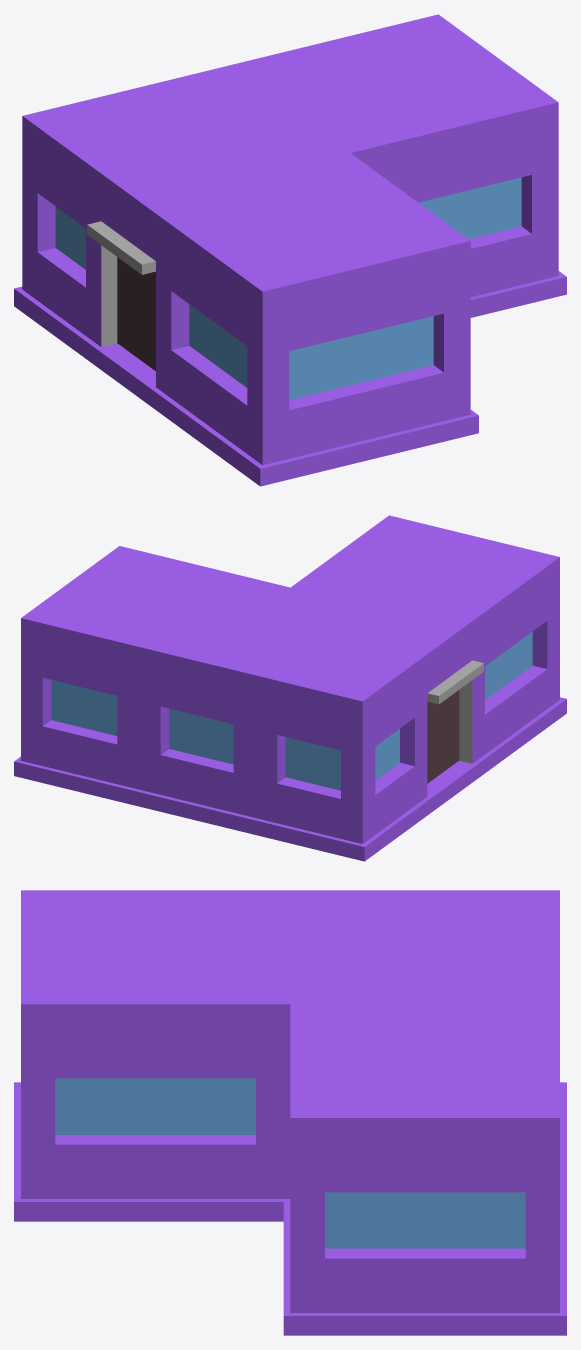
File: building_L_3_g.glb
3 views of the same model, one above another, from view 1: azimuth 30°, elevation 25°; view 2: azimuth 150°, elevation 25°; view 3: azimuth 270°, elevation 25° (orthographic). The views are drawn at different scales.
Parts seen in each view (by area): view 1: Cube; view 2: Cube; view 3: Cube.
Part boxes in pixels (x1,y1,x2,y2): Cube: (14,14,566,486); Cube: (14,515,566,861); Cube: (14,890,566,1335).
Size of the model in its own units: 3.81 by 1.6 by 3.73.
